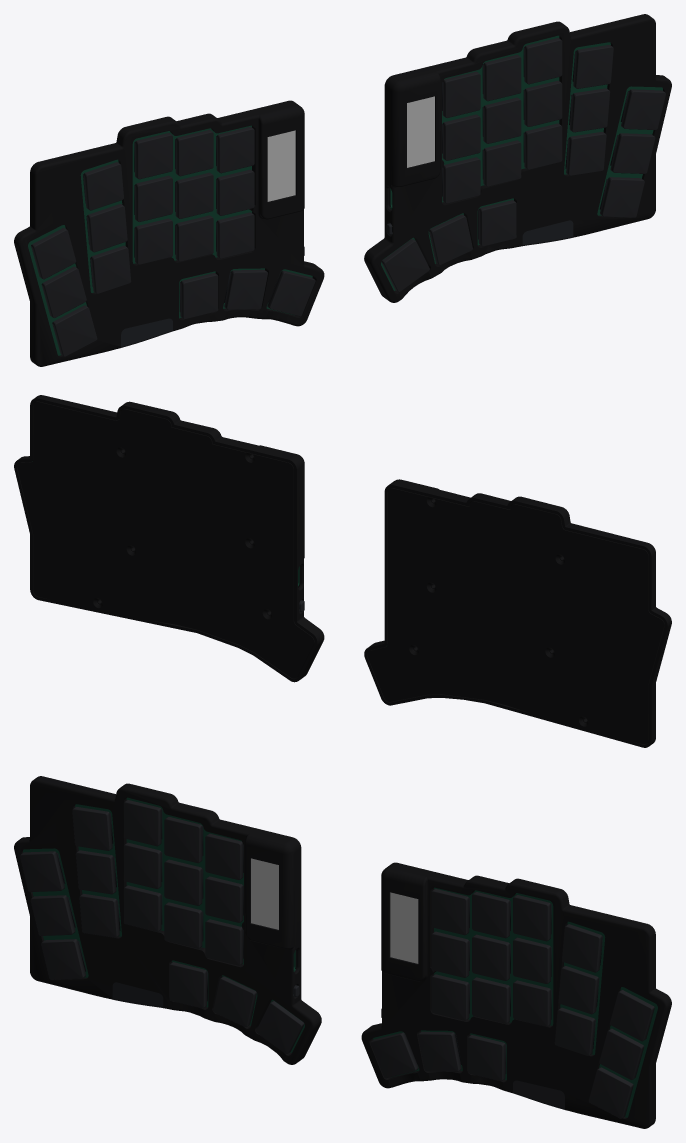
The model's file is wafer_demo.opt.glb.
3 views of the same model, one above another, from view 1: azimuth 30°, elevation 25°; view 2: azimuth 150°, elevation 25°; view 3: azimuth 330°, elevation 25° (orthographic).
Parts seen in each view (by area): view 1: object 1, key_R_r1c4, key_L_r1c3, key_L_r2c3, key_R_r1c2, key_R_r2c3, key_R_r2c4, key_L_r0c3, key_L_r0c4, key_L_r2c4, key_R_r2c2, key_R_r0c3 (+25 smaller); view 2: object 1; view 3: object 1, key_L_r1c4, key_L_r2c3, key_L_r2c4, key_L_r1c2, key_L_r2c2, key_L_r0c3, key_L_r0c4, key_R_r0c4, key_R_r1c4, key_R_r2c4, key_L_r1c3 (+25 smaller).
Boxes of the visible parts, x1=… form: object 1: x1=14, y1=14, x2=671, y2=366; key_R_r1c4: x1=442, y1=114, x2=480, y2=160; key_L_r1c3: x1=175, y1=172, x2=213, y2=218; key_L_r2c3: x1=175, y1=215, x2=213, y2=261; key_R_r1c2: x1=524, y1=80, x2=562, y2=126; key_R_r2c3: x1=483, y1=140, x2=521, y2=186; key_R_r2c4: x1=442, y1=157, x2=480, y2=203; key_L_r0c3: x1=175, y1=130, x2=213, y2=176; key_L_r0c4: x1=216, y1=126, x2=254, y2=173; key_L_r2c4: x1=216, y1=212, x2=254, y2=258; key_R_r2c2: x1=524, y1=123, x2=562, y2=169; key_R_r0c3: x1=483, y1=54, x2=521, y2=101; object 1: x1=14, y1=395, x2=671, y2=747; object 1: x1=14, y1=776, x2=671, y2=1128; key_L_r1c4: x1=205, y1=876, x2=243, y2=922; key_L_r2c3: x1=164, y1=902, x2=202, y2=948; key_L_r2c4: x1=205, y1=919, x2=243, y2=965; key_L_r1c2: x1=123, y1=842, x2=161, y2=888; key_L_r2c2: x1=123, y1=885, x2=161, y2=931; key_L_r0c3: x1=164, y1=816, x2=202, y2=863; key_L_r0c4: x1=205, y1=833, x2=243, y2=879; key_R_r0c4: x1=431, y1=888, x2=469, y2=935; key_R_r1c4: x1=431, y1=931, x2=469, y2=977; key_R_r2c4: x1=431, y1=974, x2=469, y2=1020; key_L_r1c3: x1=164, y1=859, x2=202, y2=905.
Size of the model in its own units: 0.2799 by 0.0963 by 0.0081.
